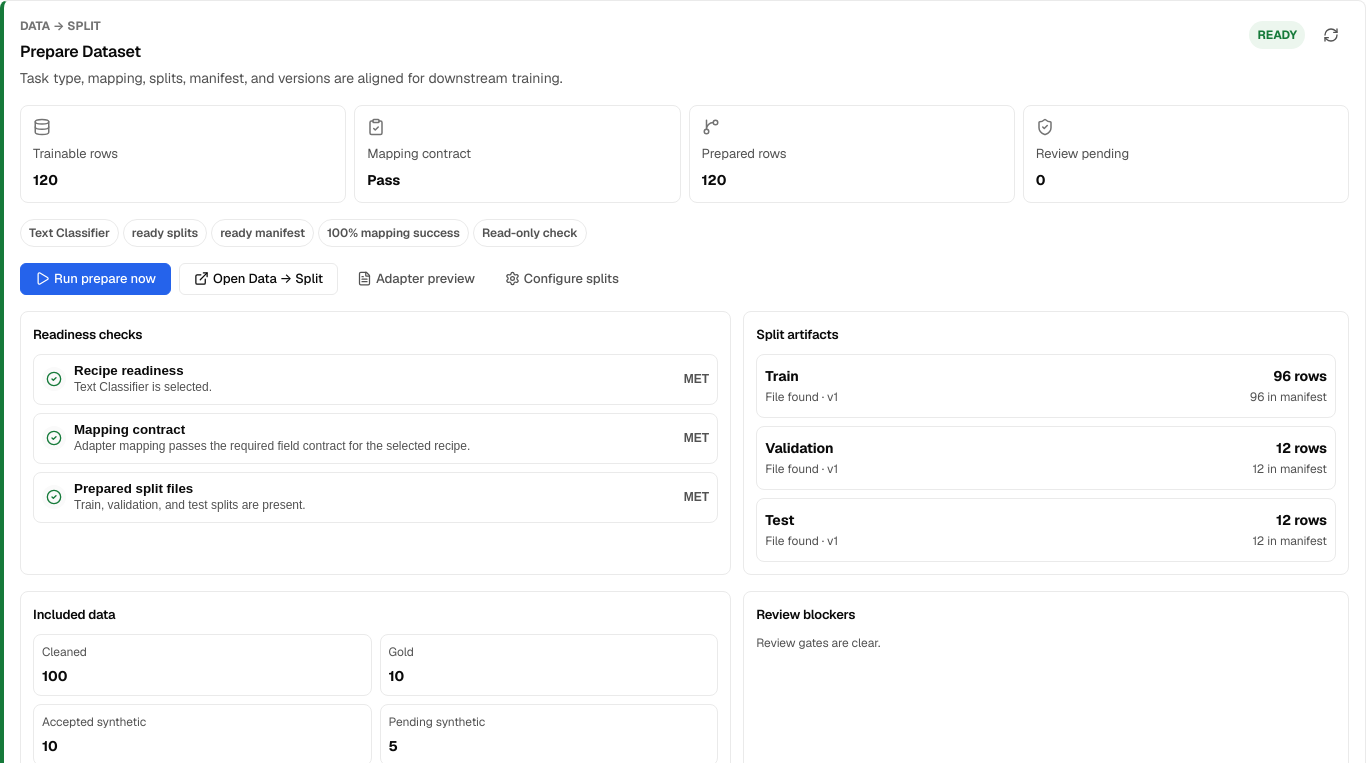
Test: DataStudioPrepareDatasetPanel › surfaces a backend error inline without refreshing
Click the button with test id "data-studio-prepare-run".
click(96, 279)  # box [20,263,171,295]
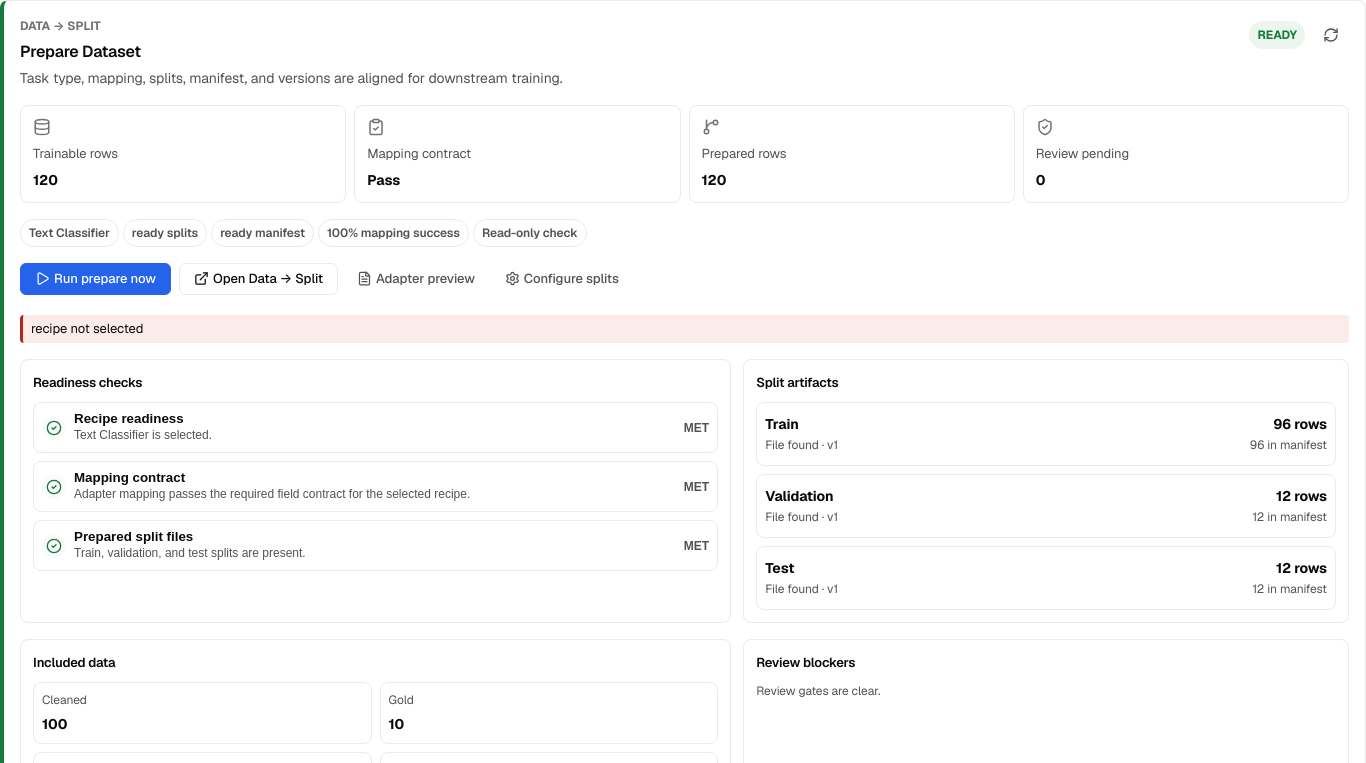
Result: the text with test id "data-studio-prepare-run-error" reads "recipe not selected" at [31,320,143,337]
